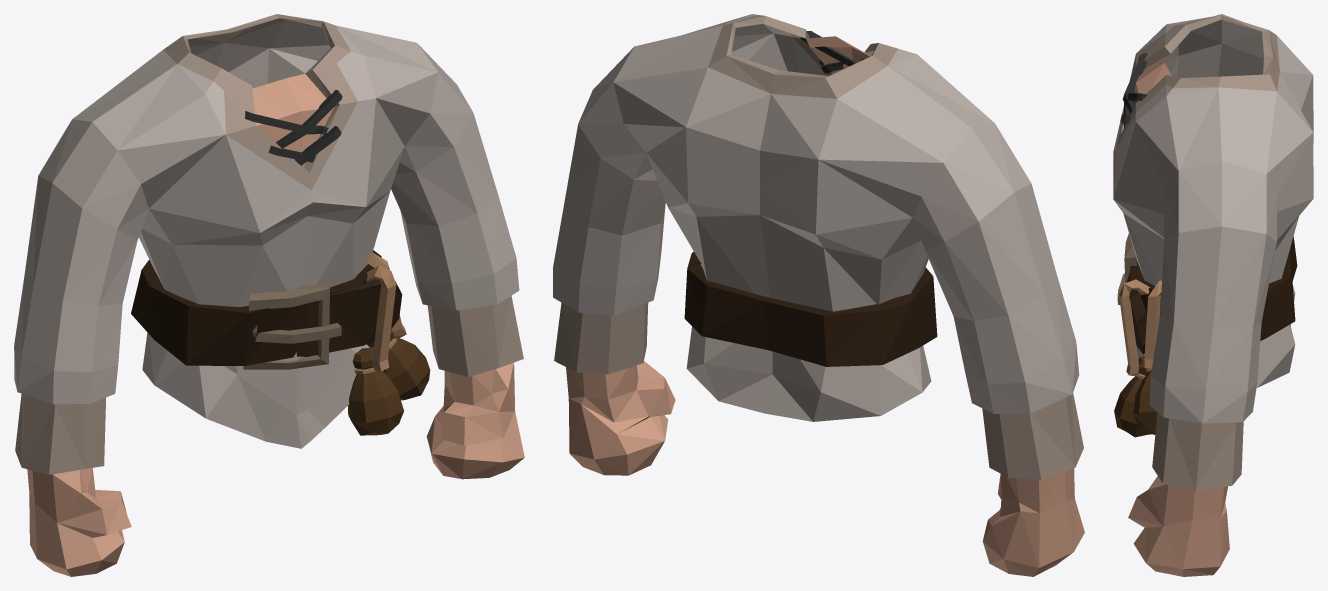
File: CommonFarmerChestplate.dae
3 renders of one model, left to right at view 1: azimuth 30°, elevation 25°; view 2: azimuth 150°, elevation 25°; view 3: azimuth 270°, elevation 25°, orthographic. The views are drawn at different scales.
Visible parts, largest first — view 1: Chest; view 2: Chest; view 3: Chest.
Part boxes in pixels (x1,y1,x2,y2): Chest: (14,14,524,576); Chest: (553,14,1084,576); Chest: (1113,14,1313,576).
Bounding box in the file's own units: 5.19 × 1.96 × 4.72.
